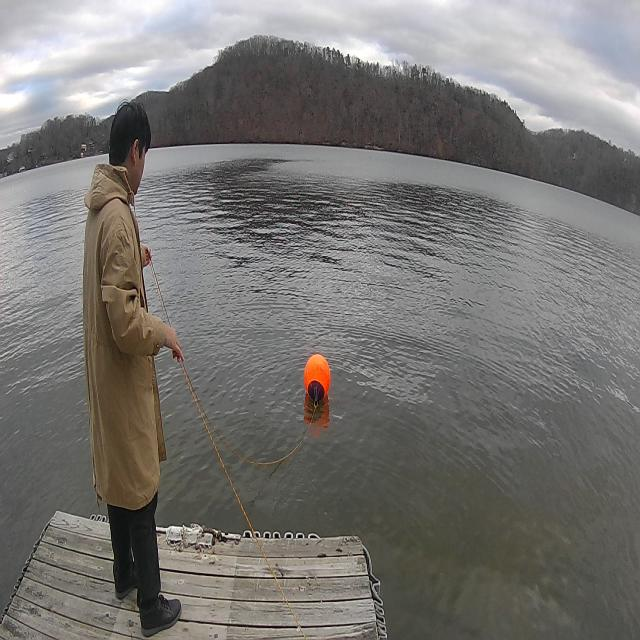Buoy: (300, 346, 334, 410)
